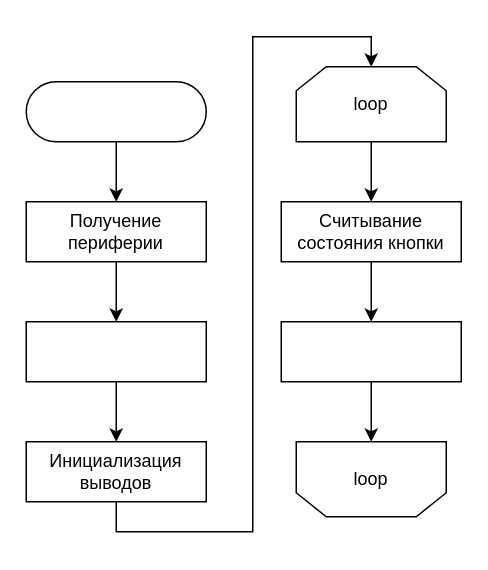
The diagram is 488 pixels wide and 570 high, and some of its shapes have lost their labels. The shapes that lost their labels are listed below. From the top down, each one's box as (x1, y1, x2, y2) in pixels, then its label:
(25, 80, 206, 142): Начало
(25, 320, 206, 382): Настройки частот
(280, 320, 461, 382): Запись состояния светодиода
